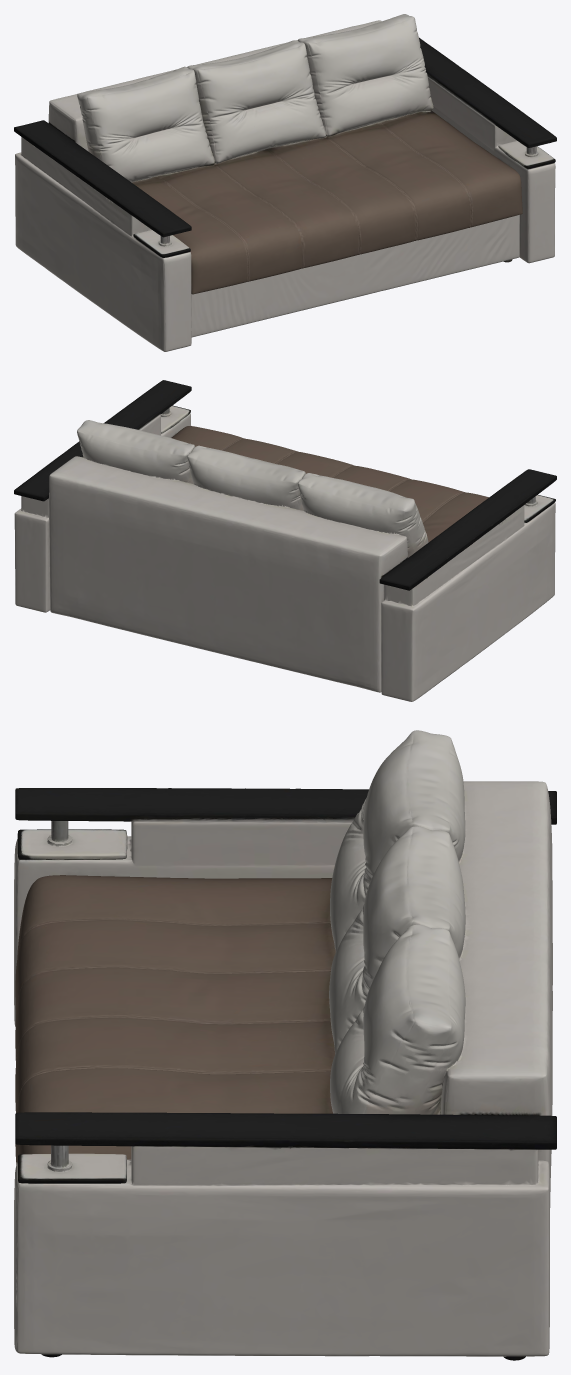
The model's file is Atlant.glb.
3 views of the same model, one above another, from view 1: azimuth 30°, elevation 25°; view 2: azimuth 150°, elevation 25°; view 3: azimuth 270°, elevation 25° (orthographic). The views are drawn at different scales.
Parts seen in each view (by area): view 1: tripo_node_800a9242-2dc0-4793-81ad-ab9ebc4824cf; view 2: tripo_node_800a9242-2dc0-4793-81ad-ab9ebc4824cf; view 3: tripo_node_800a9242-2dc0-4793-81ad-ab9ebc4824cf.
Part boxes in pixels (x1,y1,x2,y2): tripo_node_800a9242-2dc0-4793-81ad-ab9ebc4824cf: (14,14,556,351); tripo_node_800a9242-2dc0-4793-81ad-ab9ebc4824cf: (14,380,556,701); tripo_node_800a9242-2dc0-4793-81ad-ab9ebc4824cf: (14,730,556,1360).
Bounding box in the file's own units: 0.9807 × 0.4079 × 0.6321.
Materials: 1 (1 with a texture image).
